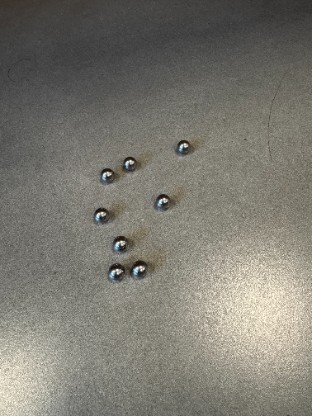ironball: (108, 263, 125, 280), (131, 260, 147, 277), (113, 235, 129, 251), (94, 207, 109, 223), (156, 193, 170, 209), (100, 168, 114, 182), (123, 156, 136, 170), (177, 139, 190, 153)
